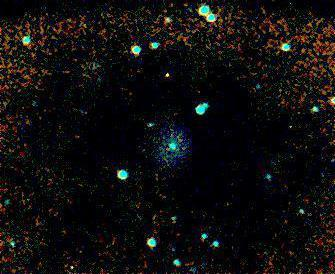star: (155, 68, 185, 98)
